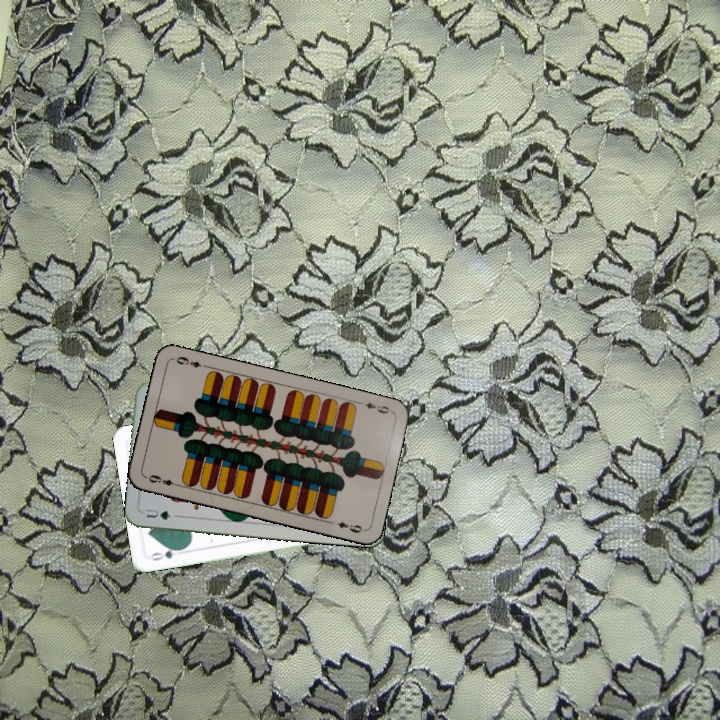E9: (354, 398, 394, 416), (144, 471, 182, 489)
GO: (146, 544, 186, 563)
GU: (142, 505, 173, 522)
